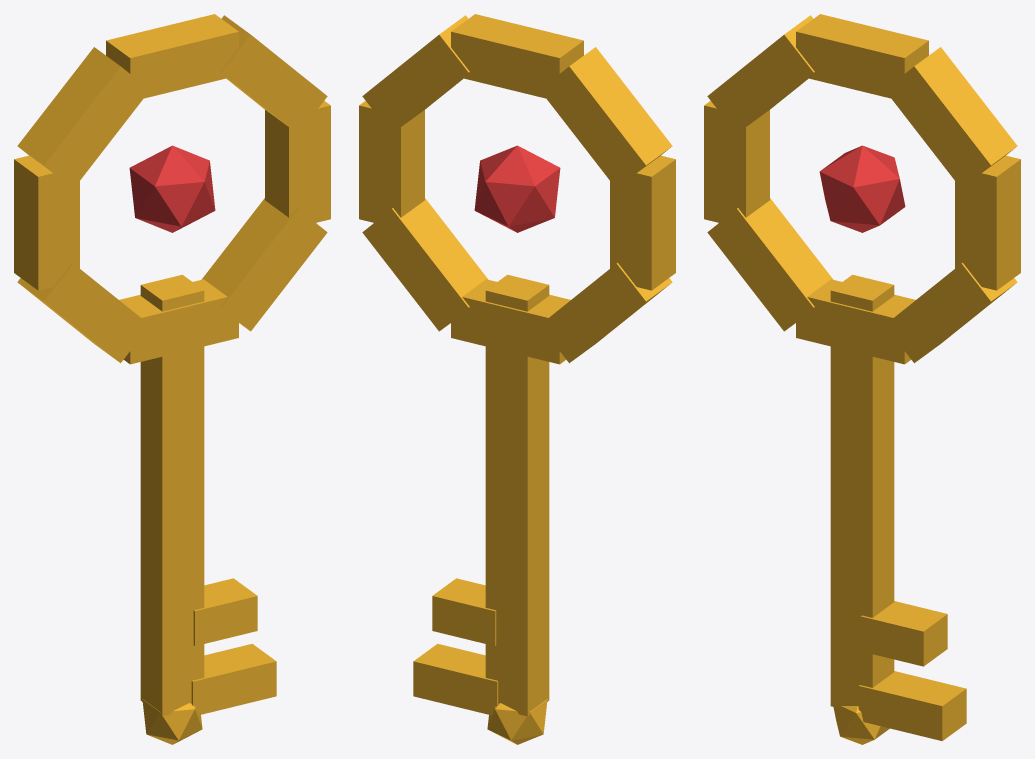
The model's file is Key.fbx.
3 renders of one model, left to right at view 1: azimuth 30°, elevation 25°; view 2: azimuth 150°, elevation 25°; view 3: azimuth 330°, elevation 25°, orthographic.
Visible parts, largest first — view 1: Key; view 2: Key; view 3: Key.
Part boxes in pixels (bbox=[...]): Key: bbox=[14, 14, 330, 744]; Key: bbox=[359, 14, 675, 744]; Key: bbox=[704, 14, 1020, 744].
Bounding box in the file's own units: 2.1 × 4.86 × 0.5104.
1 material, 1 textured.
